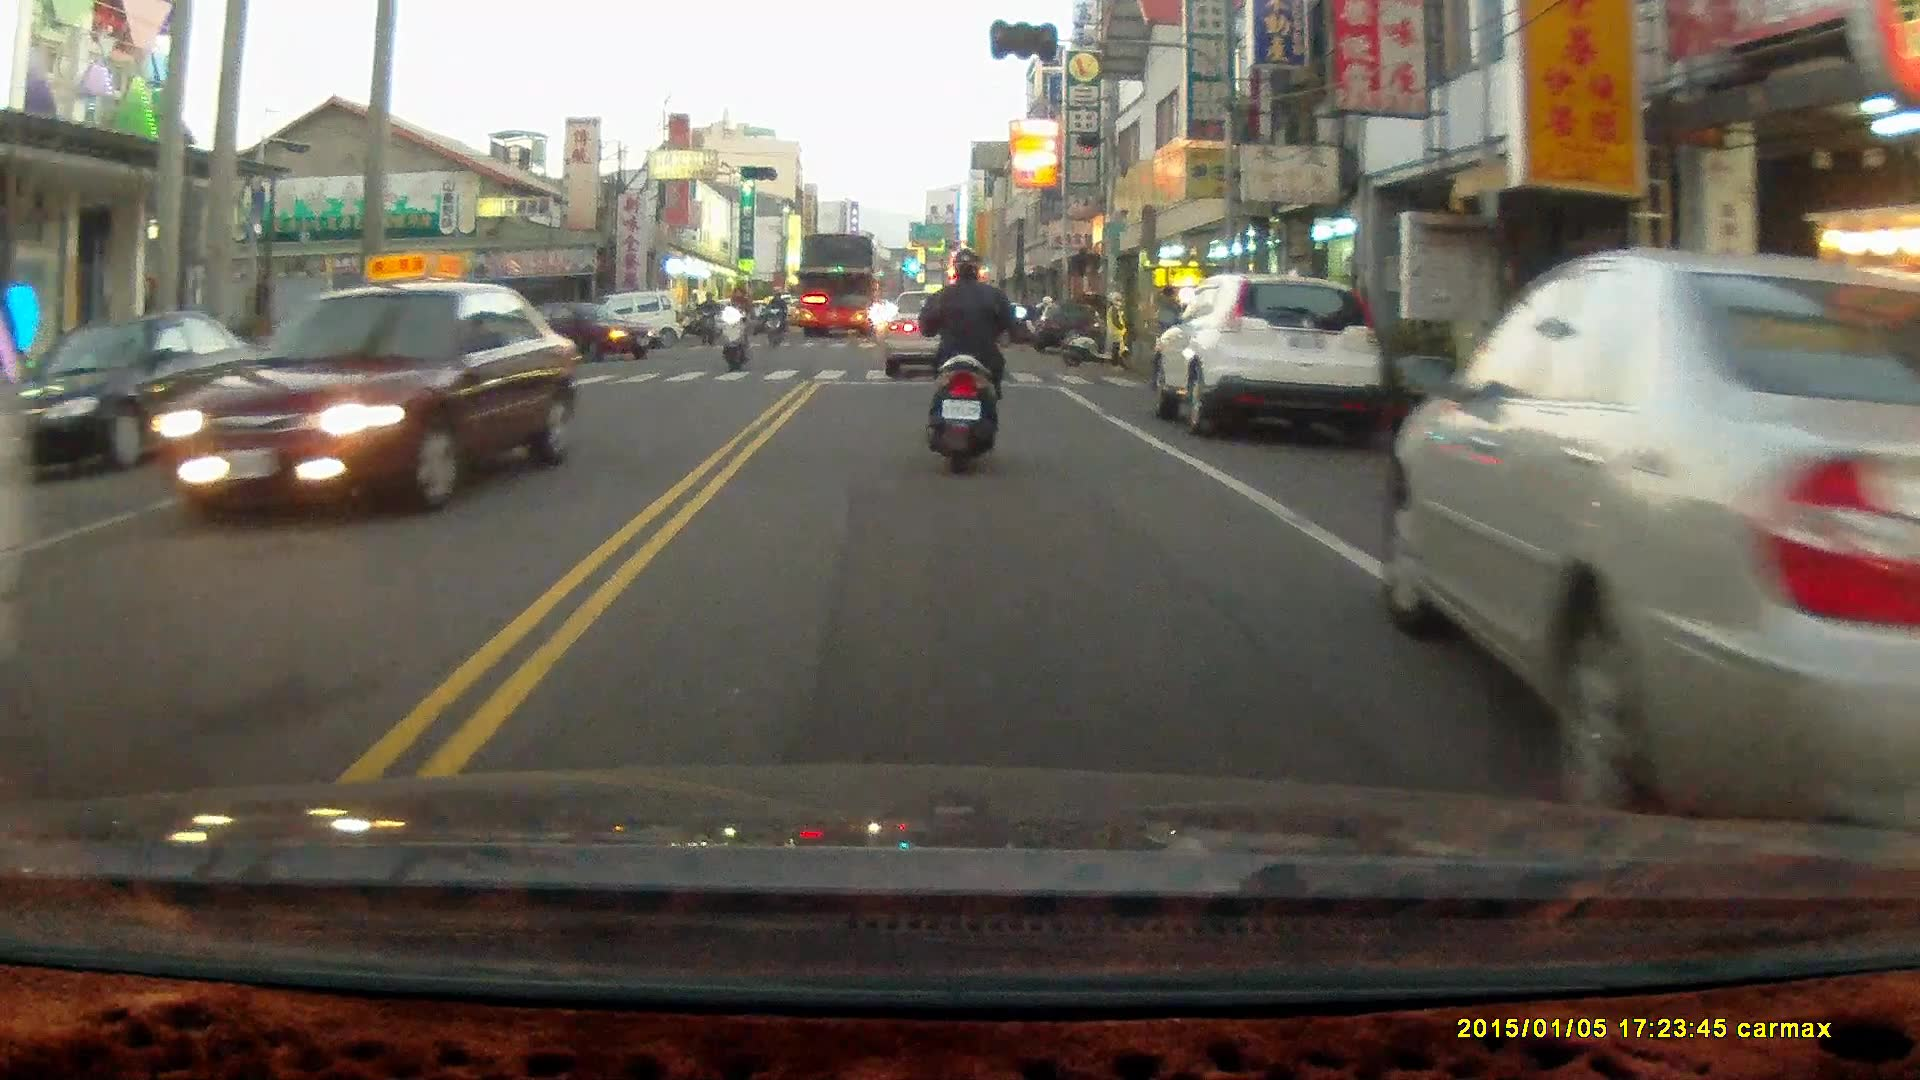pedestrian: (1152, 283, 1182, 383), (1100, 290, 1128, 372)
rider: (916, 244, 1027, 475), (716, 282, 752, 372), (693, 287, 717, 346), (763, 287, 784, 349)
vehicle: (1379, 247, 1920, 813), (152, 278, 586, 519), (1, 313, 262, 474), (1152, 275, 1384, 440), (794, 230, 881, 342), (881, 293, 986, 378)
